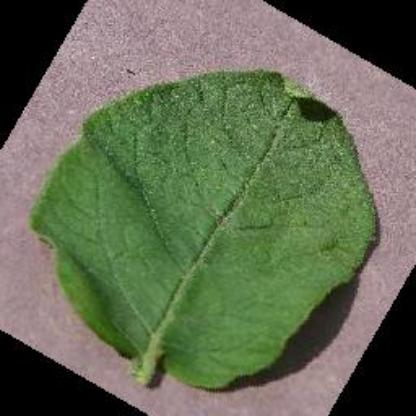Healthy-plant: (32, 72, 388, 396)
